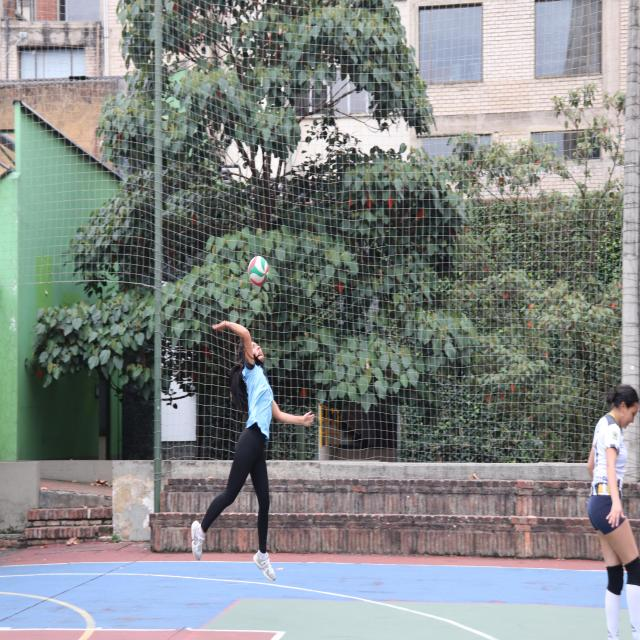volleyball: (249, 255, 269, 288)
